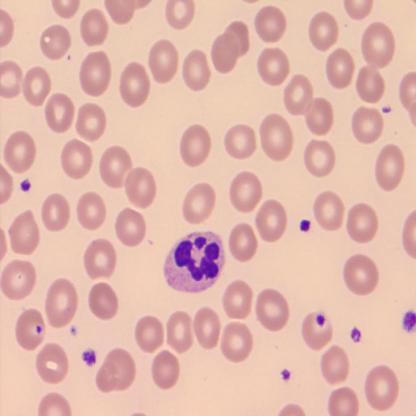Segmented neutrophil: (162, 228, 230, 294)
